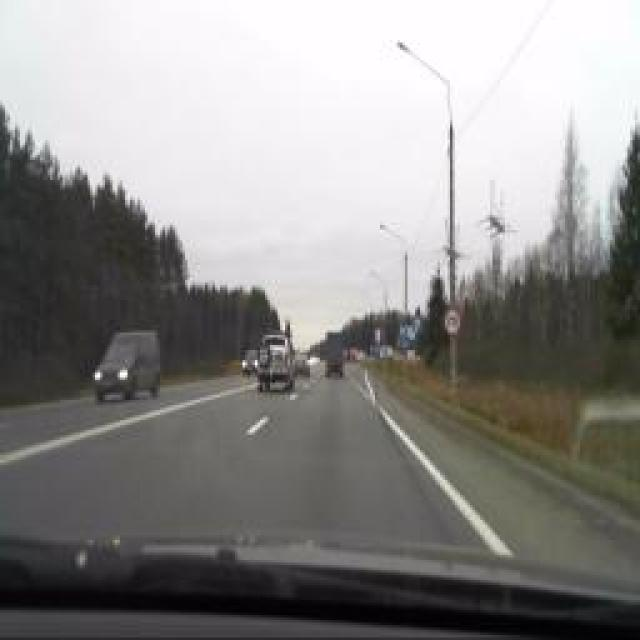sign: (445, 308, 460, 338)
